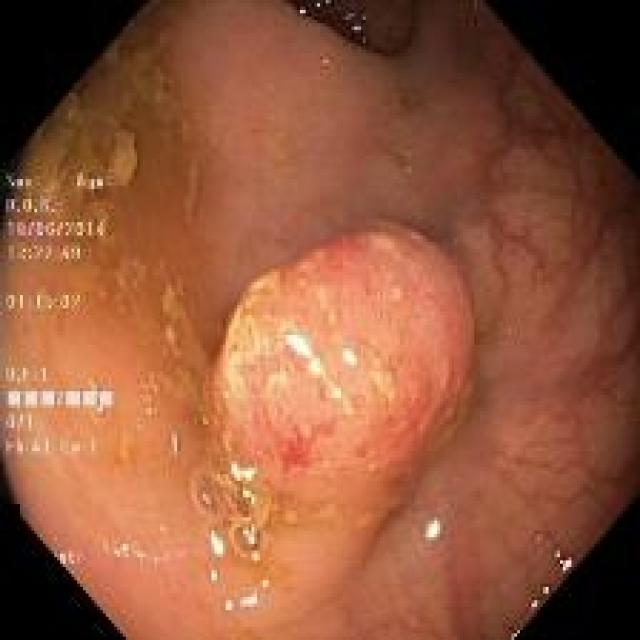Polyps: (191, 223, 475, 623)
